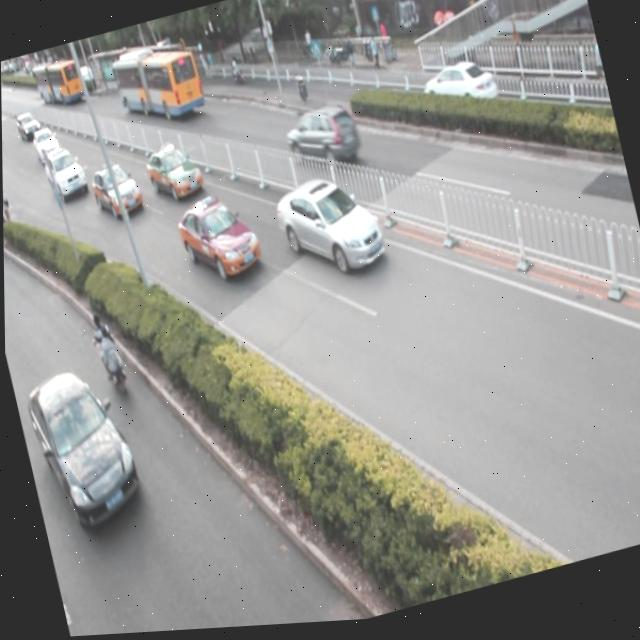car: (19, 359, 145, 539), (268, 165, 389, 293), (170, 186, 263, 290), (279, 99, 363, 186), (415, 56, 501, 137), (142, 139, 204, 207), (86, 158, 143, 223), (39, 142, 89, 207), (29, 123, 62, 168)
van: (107, 32, 207, 134)
